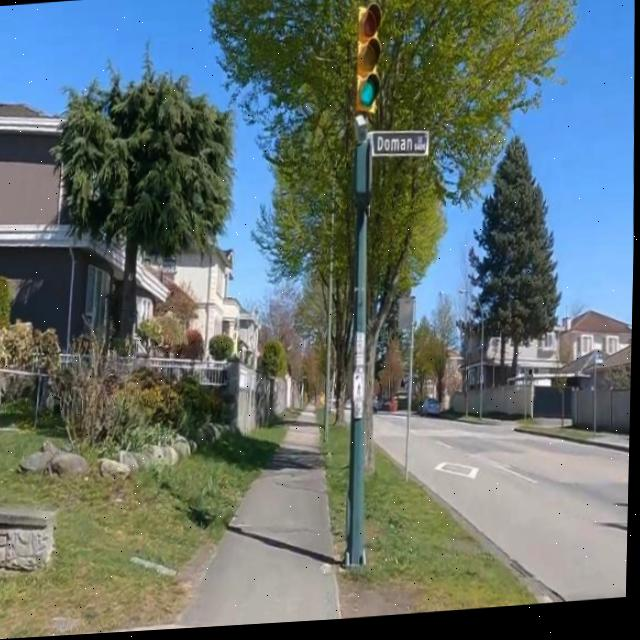Automobile: (422, 402, 440, 421)
Obstacle: (0, 429, 284, 639), (344, 456, 541, 620), (346, 8, 379, 571), (222, 368, 299, 438), (0, 508, 56, 570), (341, 580, 421, 623), (329, 432, 349, 536)
Road: (411, 420, 631, 608), (412, 422, 631, 608), (377, 418, 406, 469)
Sidewalk: (85, 407, 343, 636)
